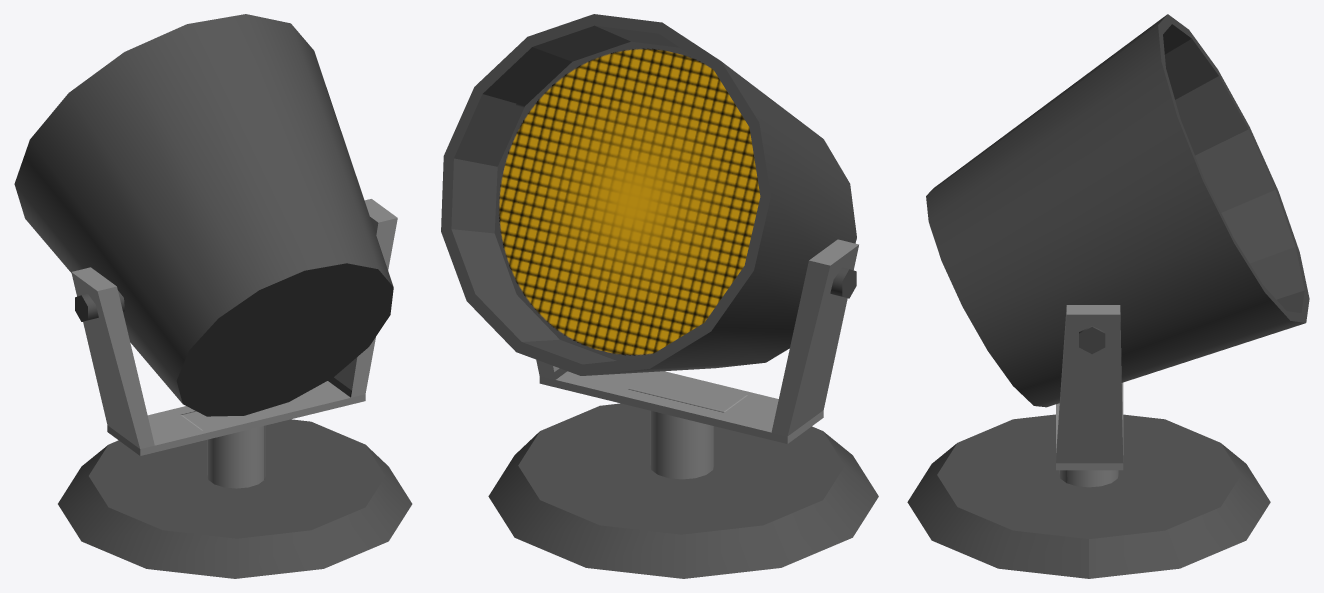
Rendered from spotlight.FBX.
The picture shows the model from 3 angles, left to right: view 1: azimuth 30°, elevation 25°; view 2: azimuth 150°, elevation 25°; view 3: azimuth 270°, elevation 25°; orthographic projection. The views are drawn at different scales.
Visible parts, largest first — view 1: Cylinder003, base; view 2: Cylinder003, base; view 3: Cylinder003, base.
Part boxes in pixels (x1,y1,x2,y2): Cylinder003: (14, 14, 393, 416); base: (58, 199, 412, 578); Cylinder003: (441, 14, 856, 375); base: (488, 239, 878, 578); Cylinder003: (926, 14, 1309, 407); base: (907, 305, 1270, 578).
Bounding box in the file's own units: 140 × 200 × 155.
Materials: 1 (1 with a texture image).
